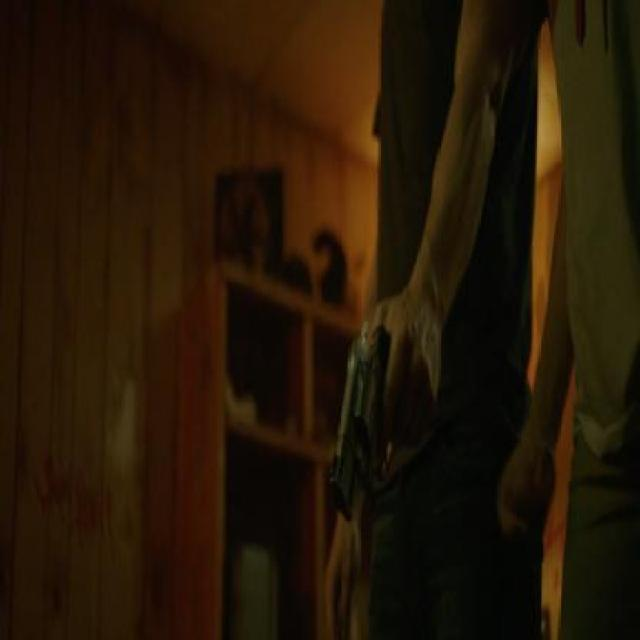gun: (328, 300, 400, 517)
